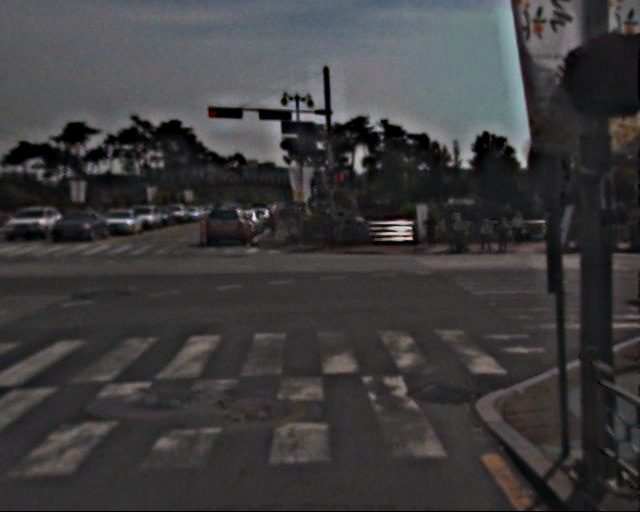person: (267, 202, 311, 242), (321, 204, 341, 252), (449, 208, 467, 253), (494, 209, 512, 254), (427, 213, 445, 256), (482, 214, 499, 255), (510, 206, 527, 247), (469, 208, 485, 248)
